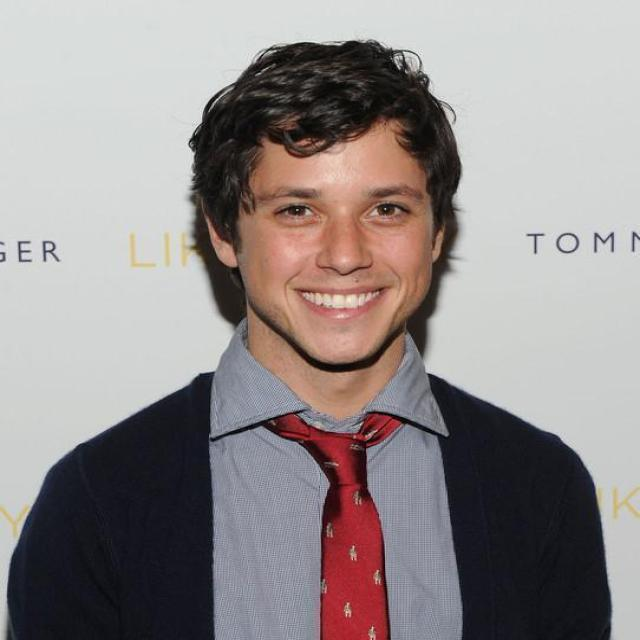0_rostro_limpio: (199, 76, 446, 366)
